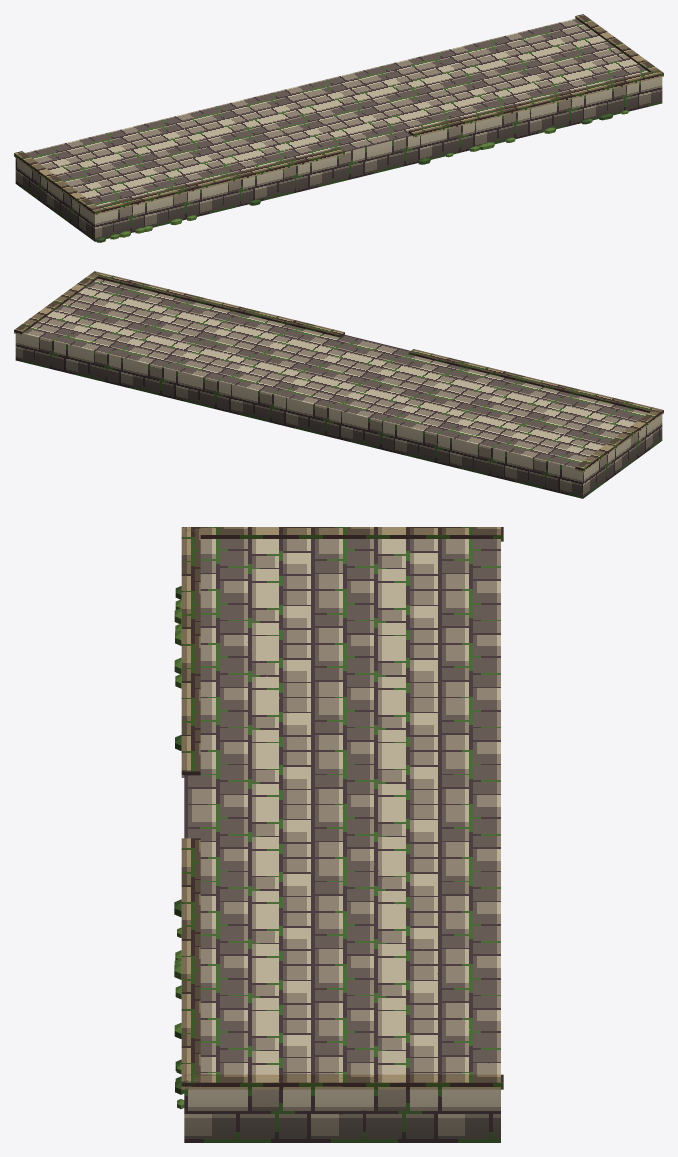
Rendered from scene_gallery.glb.
3 renders of one model, top to bottom at view 1: azimuth 30°, elevation 25°; view 2: azimuth 150°, elevation 25°; view 3: azimuth 270°, elevation 25°, orthographic. The views are drawn at different scales.
Visible parts, largest first — view 1: scene_gallery; view 2: scene_gallery; view 3: scene_gallery.
Boxes of the visible parts, x1,y1,x2,y2 form: scene_gallery: [14, 14, 663, 242]; scene_gallery: [14, 271, 663, 498]; scene_gallery: [174, 527, 503, 1142].
Bounding box in the file's own units: 24.9 × 1.37 × 6.24.
2 materials, 1 textured.
